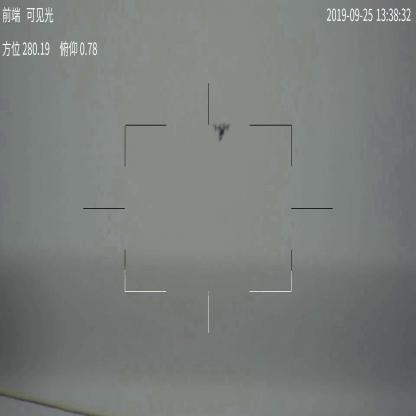uav: (214, 120, 230, 142)
